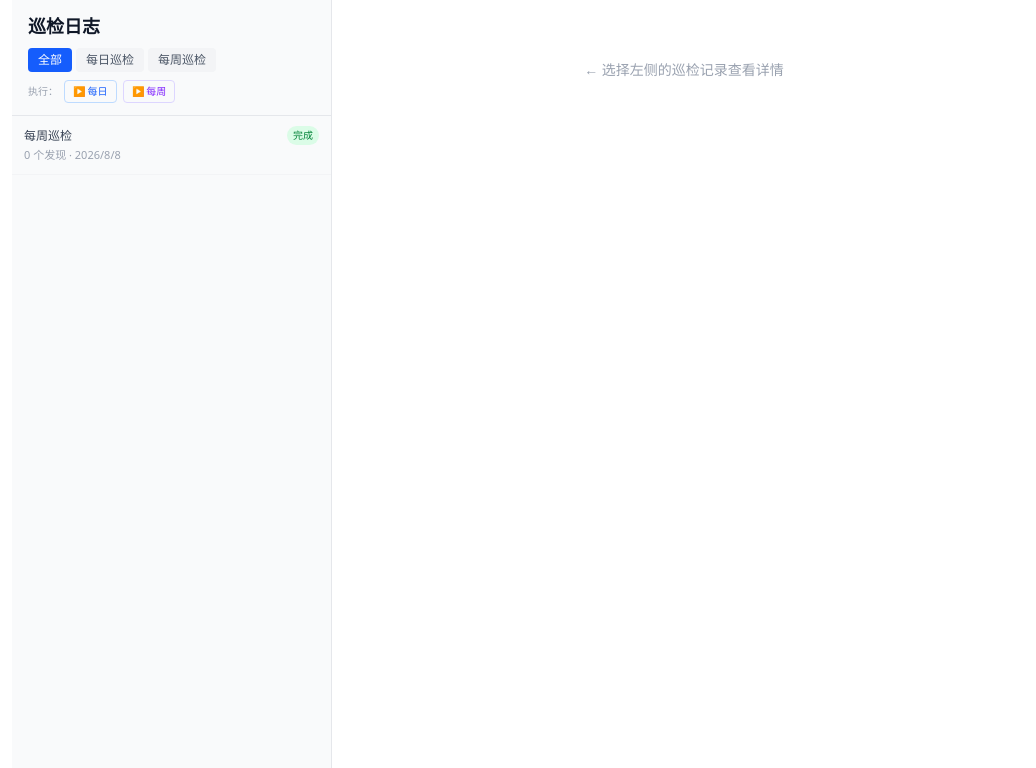
PatrolPage › renders the raw report of an unstructured patrol log
Click the text "0 个发现 · 2026/8/8".
click(72, 154)  # box [24,147,121,162]
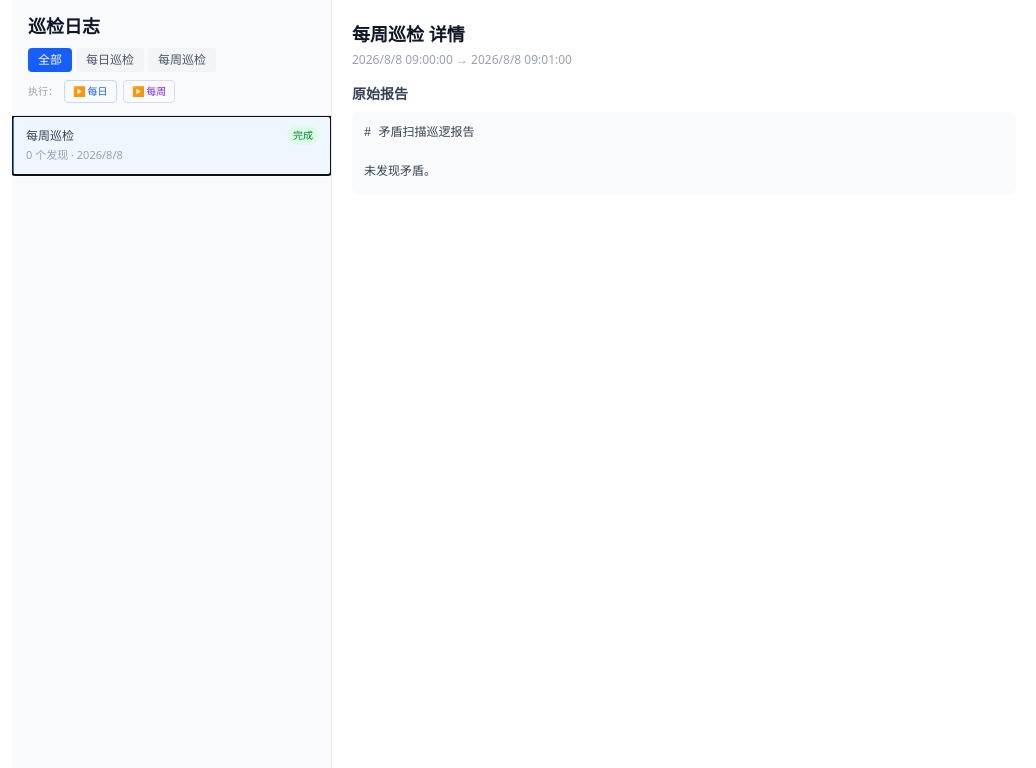
Expected: the heading "原始报告" is shown, [352,84,408,103]
Expected: the text "# 矛盾扫描巡逻报告 未发现矛盾。" is shown, [352,112,1016,194]
